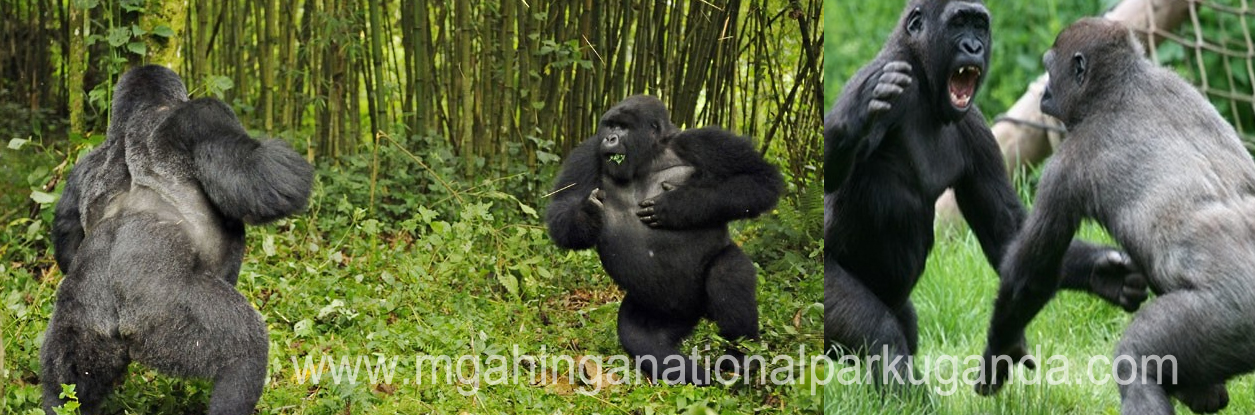Goriila: (516, 79, 798, 357)
